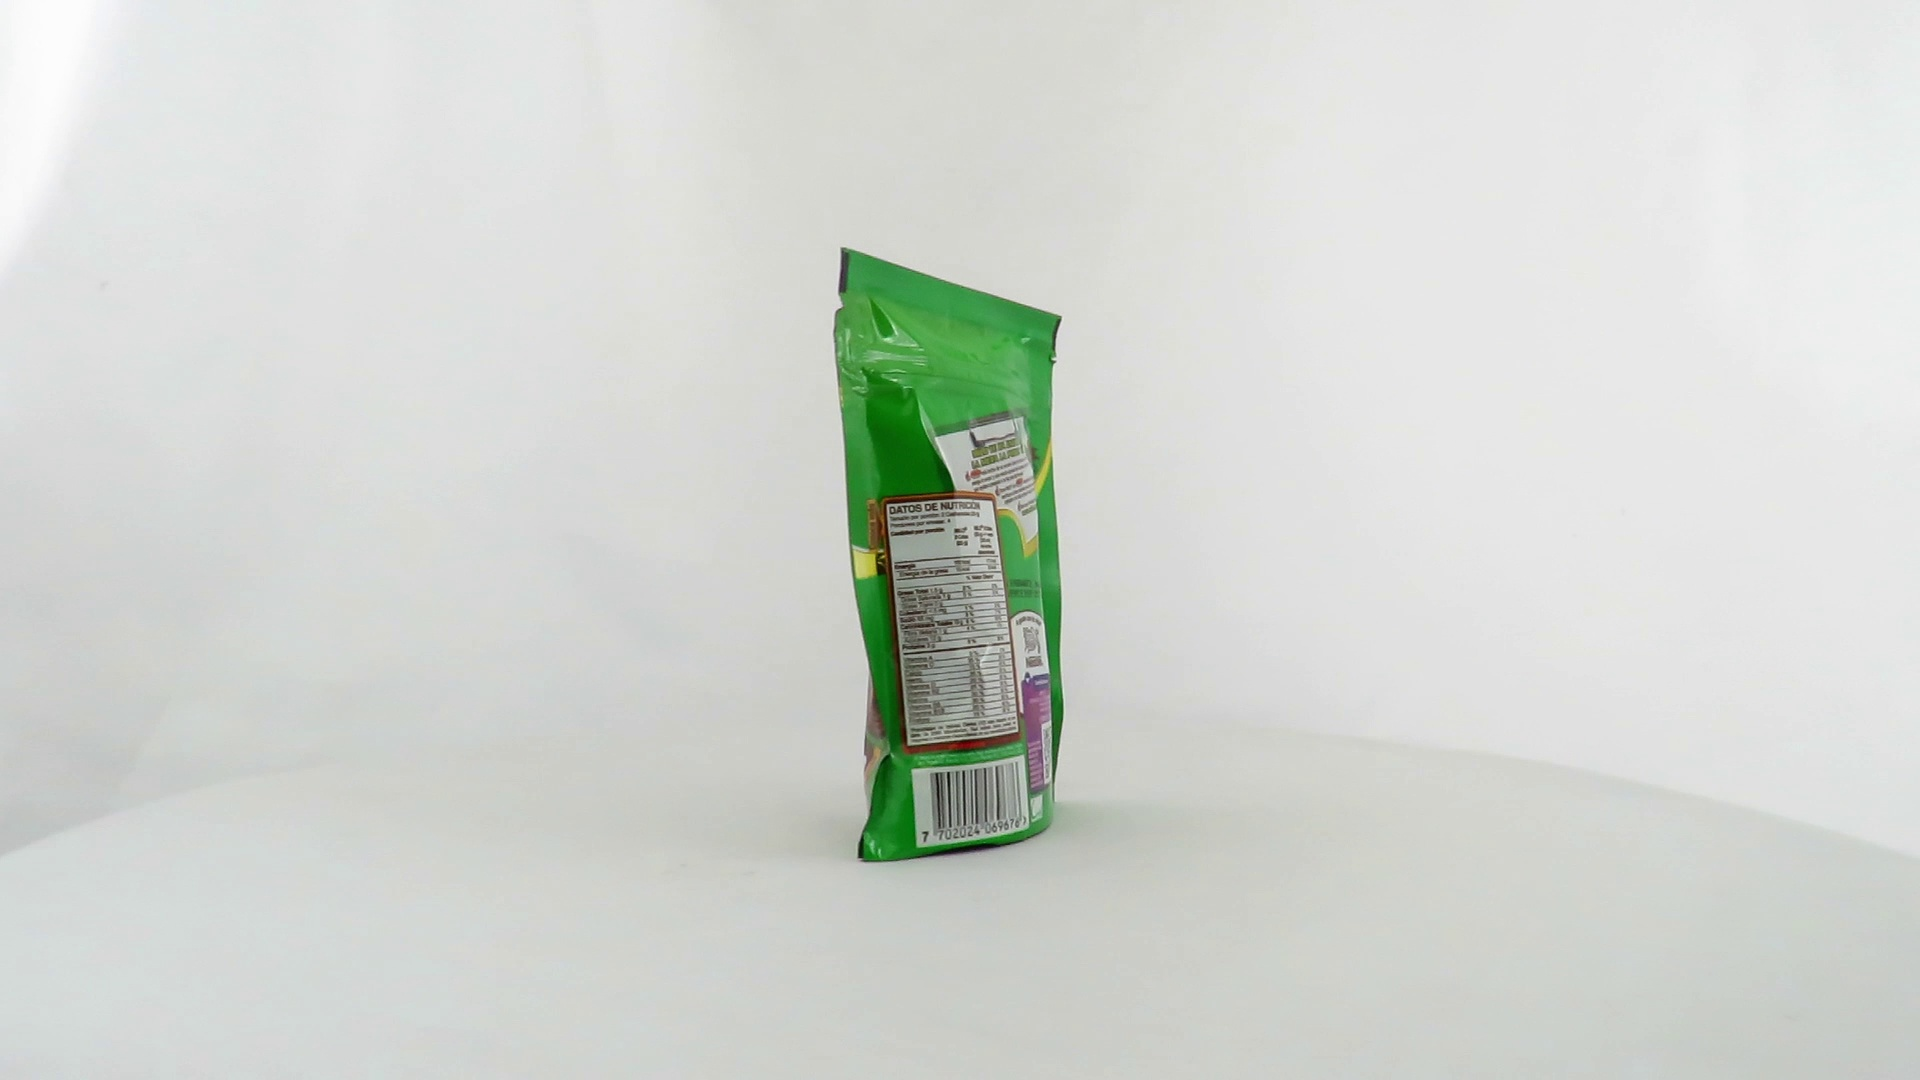COL0170203DYP10000: (828, 243, 1069, 869)
